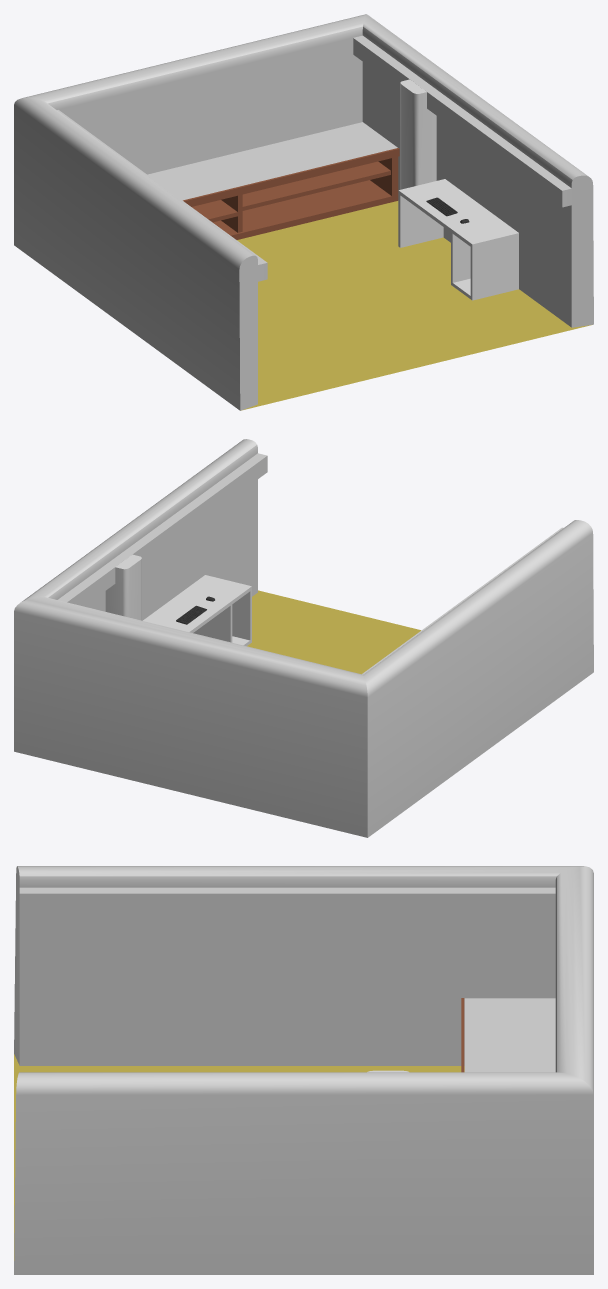
File: estudio 1.fbx
3 renders of one model, top to bottom at view 1: azimuth 30°, elevation 25°; view 2: azimuth 150°, elevation 25°; view 3: azimuth 270°, elevation 25°, orthographic. The views are drawn at different scales.
Parts seen in each view (by area): view 1: Mapa, Cube, Escritorio, Cube.001, Columna, Cube.002; view 2: Mapa, Escritorio, Columna; view 3: Mapa, Cube.
Part boxes in pixels (box(x1,y1,x2,y2)): Mapa: box(14, 14, 593, 410); Cube: box(147, 122, 398, 239); Escritorio: box(398, 179, 518, 300); Cube.001: box(192, 161, 390, 232); Columna: box(400, 79, 436, 189); Cube.002: box(183, 148, 399, 206); Mapa: box(14, 439, 593, 837); Escritorio: box(143, 575, 251, 646); Columna: box(105, 554, 141, 620); Mapa: box(14, 866, 593, 1274); Cube: box(464, 998, 555, 1072).
Size of the model in its own units: 455 by 185 by 504.
